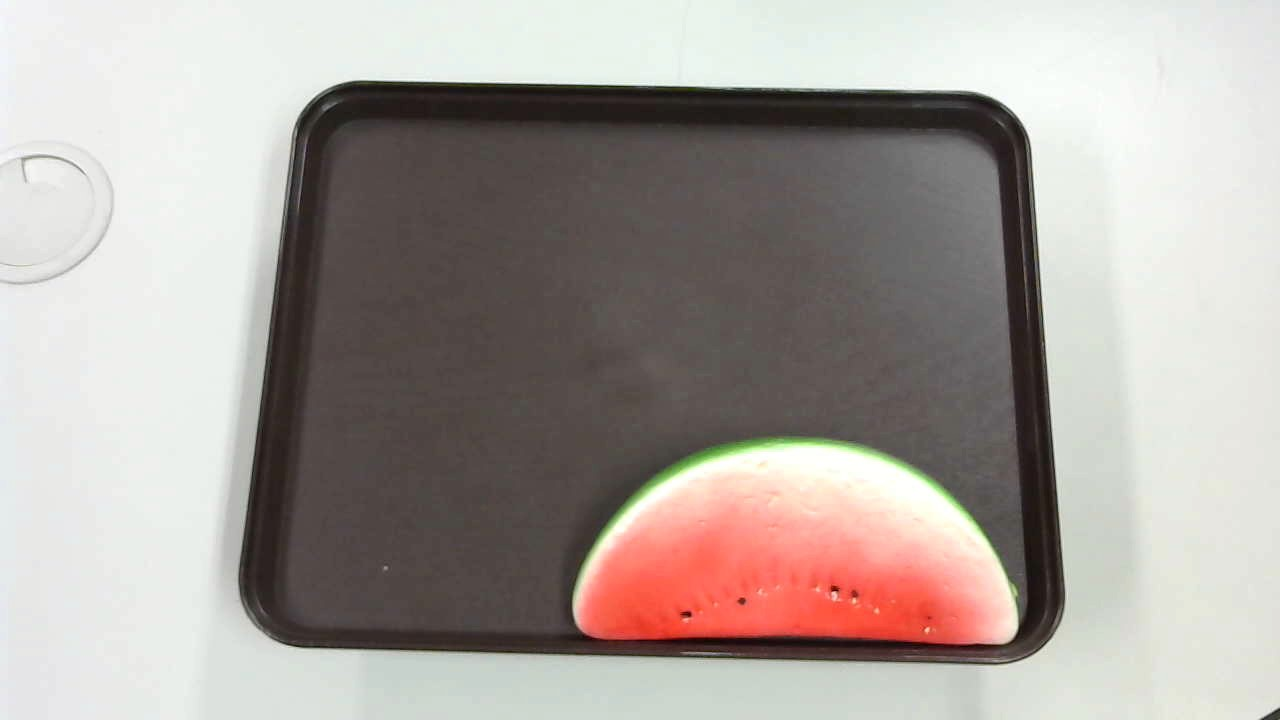water melon: (564, 437, 1034, 664)
